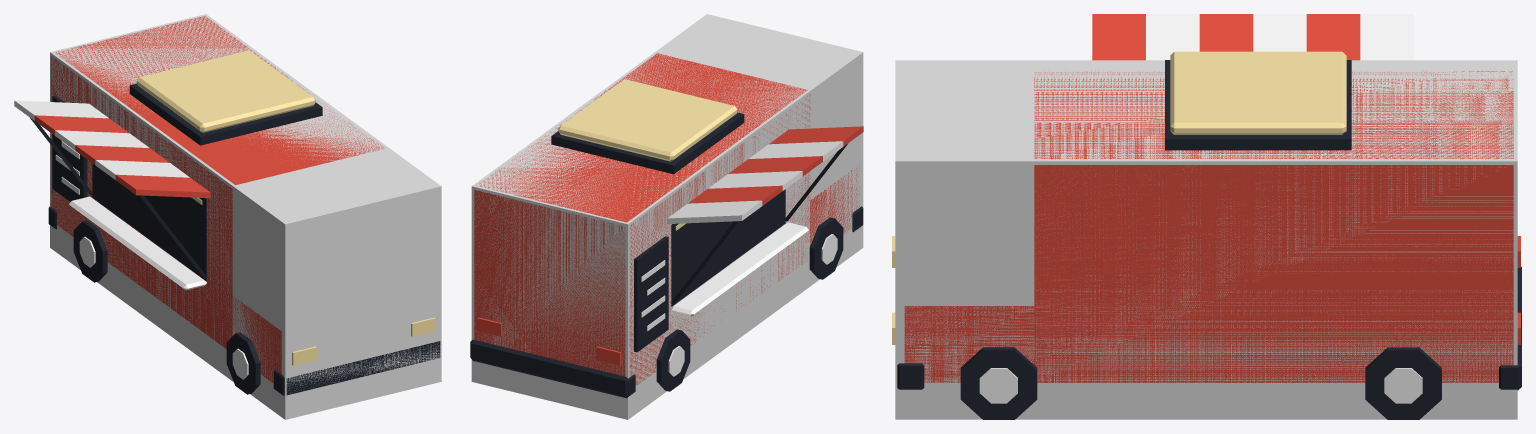
The model's file is food-truck.glb.
The picture shows the model from 3 angles, left to right: view 1: azimuth 30°, elevation 25°; view 2: azimuth 150°, elevation 25°; view 3: azimuth 270°, elevation 25°; orthographic projection. The views are drawn at different scales.
Parts seen in each view (by area): view 1: COL_body, food-truck, wheel_FR, wheel_RR; view 2: food-truck, COL_body, wheel_RR, wheel_FR; view 3: food-truck, COL_body, wheel_FL, wheel_RL.
Boxes of the visible parts, left/top/right/bottom form: COL_body: left=50, top=14, right=441, bottom=419; food-truck: left=14, top=16, right=440, bottom=395; wheel_FR: left=226, top=332, right=260, bottom=394; wheel_RR: left=73, top=220, right=107, bottom=282; food-truck: left=470, top=53, right=863, bottom=398; COL_body: left=471, top=14, right=863, bottom=419; wheel_RR: left=656, top=329, right=690, bottom=391; wheel_FR: left=809, top=217, right=843, bottom=279; food-truck: left=892, top=14, right=1521, bottom=390; COL_body: left=895, top=60, right=1517, bottom=419; wheel_FL: left=960, top=347, right=1037, bottom=419; wheel_RL: left=1365, top=347, right=1441, bottom=419.
Bounding box in the file's own units: 3.49 × 3 × 6.07.
